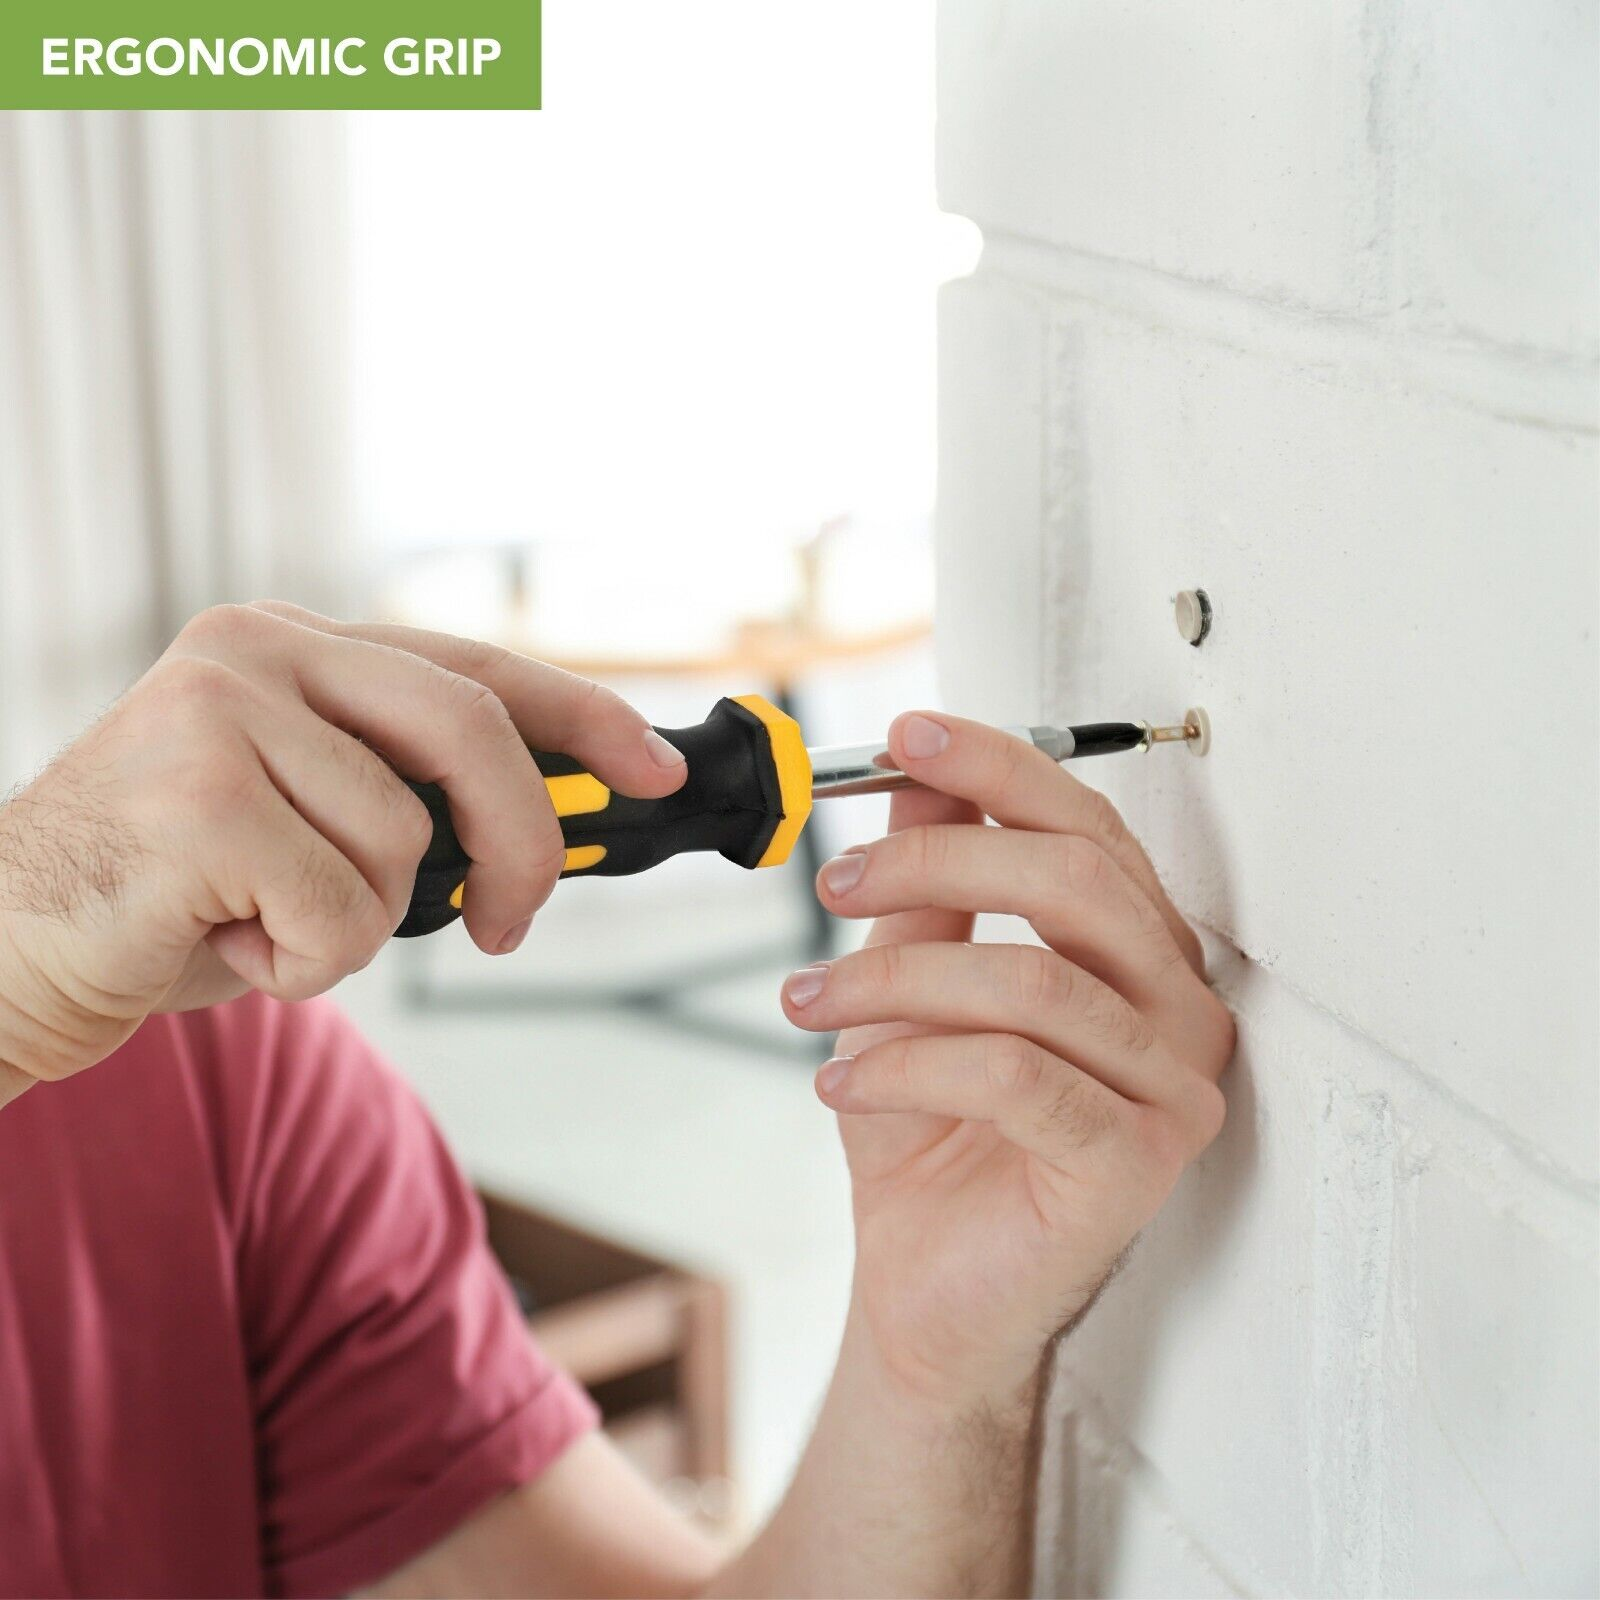screwdriver: (365, 706, 1210, 879)
